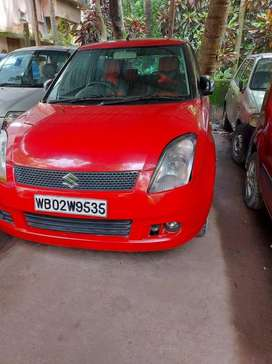WB02W9S3S: (34, 194, 106, 220)
